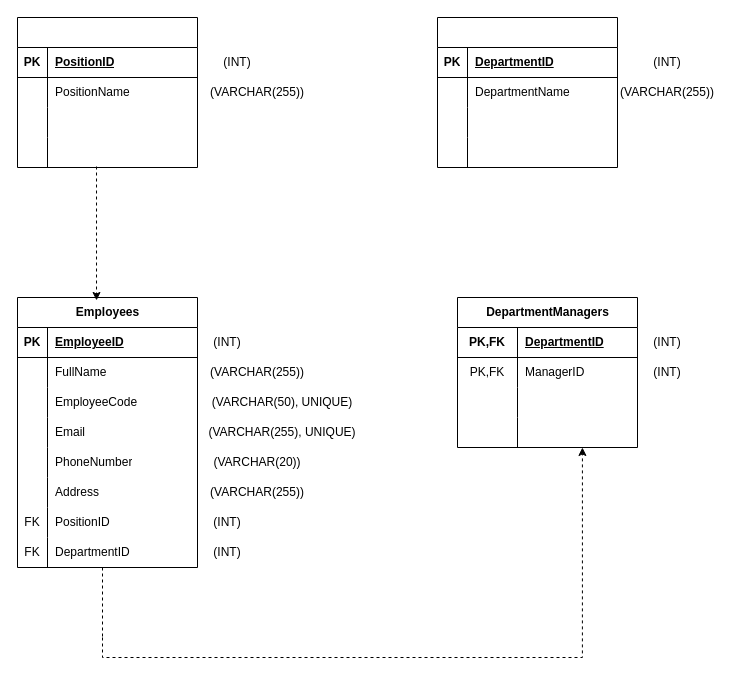
The diagram is 732 pixels wide and 683 high, and some of its shapes have lost their labels. Each missing label, with the box of its shape:
Departments: (436, 16, 618, 168)
Positions: (16, 16, 198, 168)
